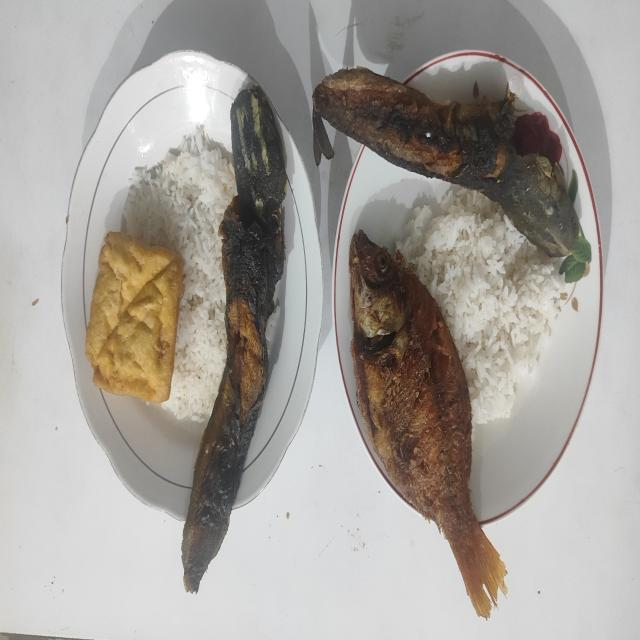ikan_mujair: (349, 230, 507, 618)
nasi_putih: (394, 185, 564, 425), (122, 126, 235, 422)
tahu_goreng: (86, 232, 183, 403)
